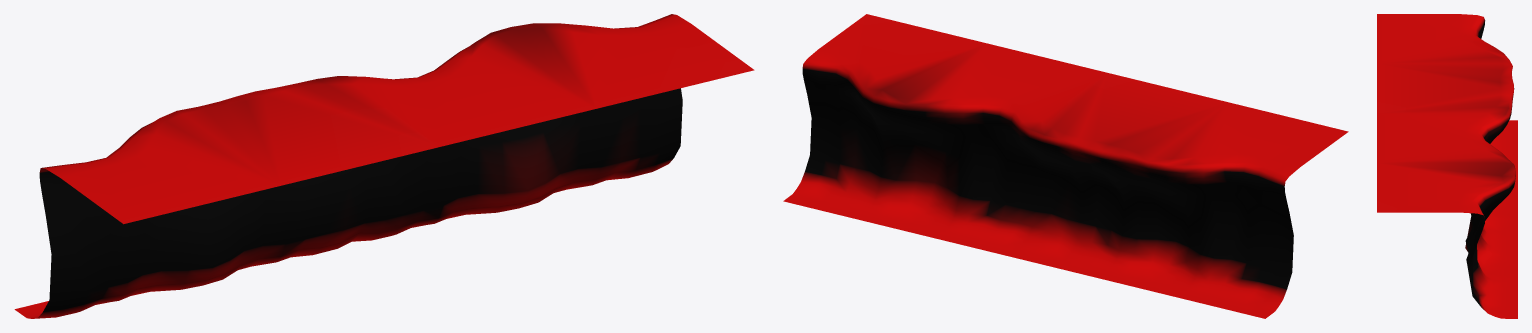
Rendered from GroundCliff02C 1M Background.fbx.
The picture shows the model from 3 angles, left to right: view 1: azimuth 30°, elevation 25°; view 2: azimuth 150°, elevation 25°; view 3: azimuth 270°, elevation 25°; orthographic projection. The views are drawn at different scales.
Parts seen in each view (by area): view 1: GroundCliff02C 1M Background; view 2: GroundCliff02C 1M Background; view 3: GroundCliff02C 1M Background.
Part boxes in pixels (x1,y1,x2,y2): GroundCliff02C 1M Background: [14, 14, 754, 318]; GroundCliff02C 1M Background: [783, 14, 1348, 318]; GroundCliff02C 1M Background: [1377, 14, 1517, 318].
Size of the model in its own units: 4 by 1 by 1.2.
